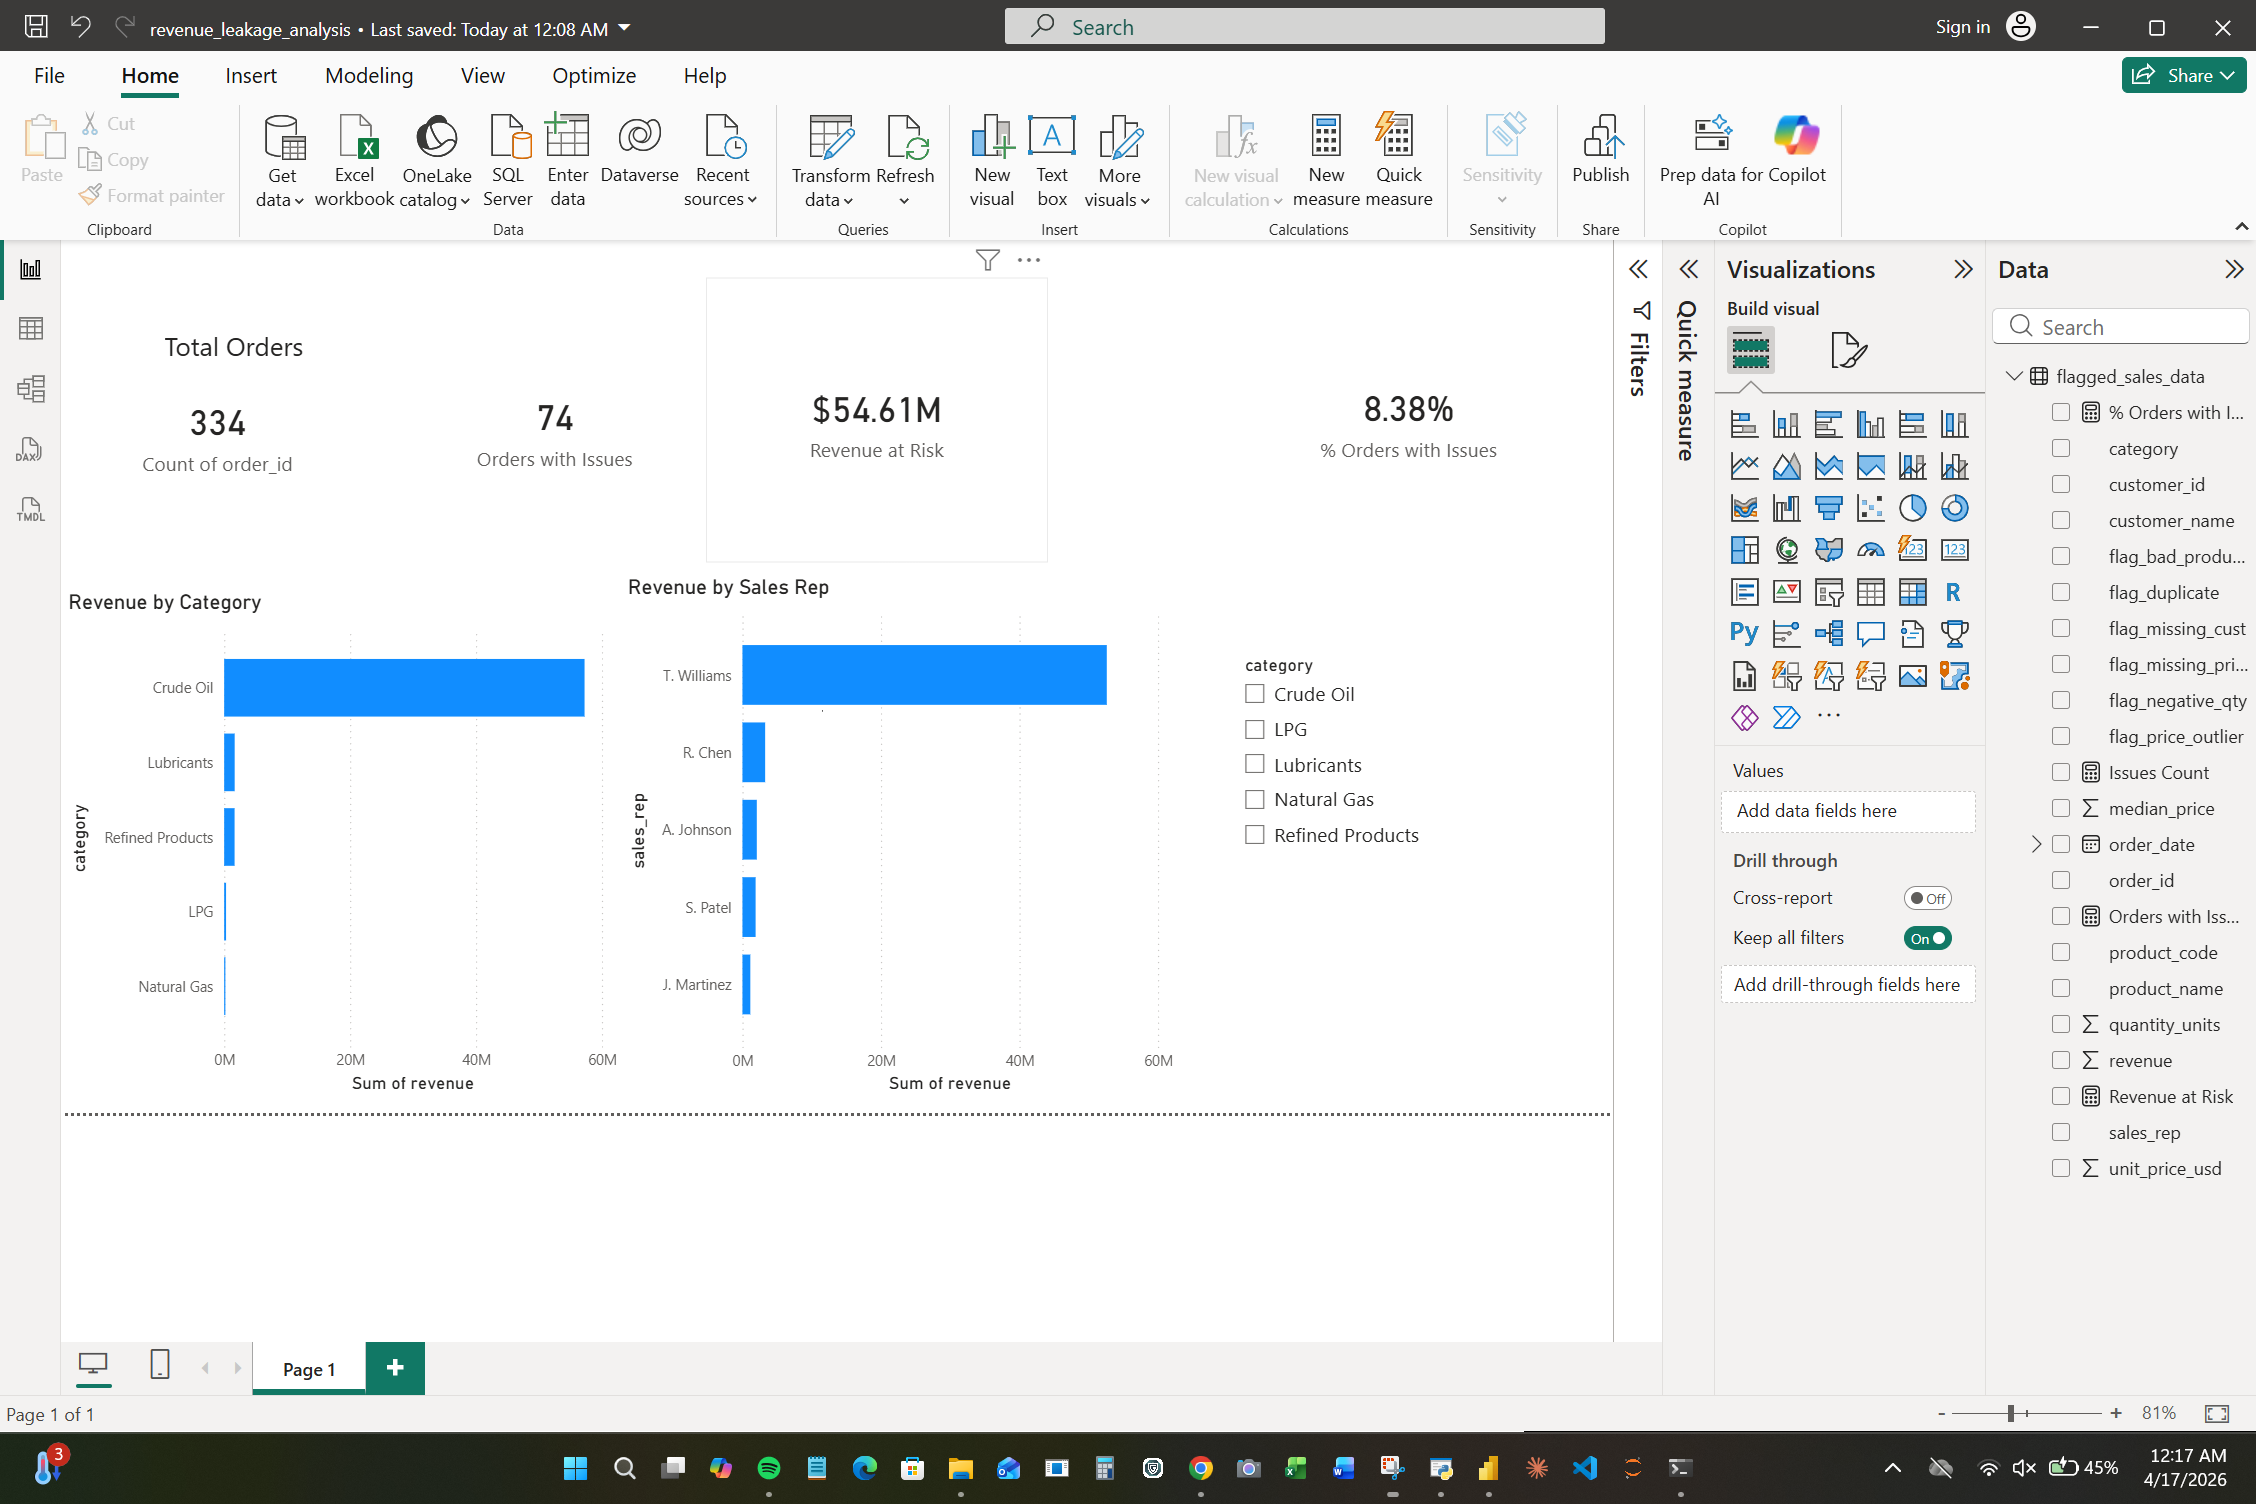

The dashboard page shown, as its layout file describes it:
{"tool":"powerbi","page":{"name":"Page 1","canvas":[1280,720],"ordinal":0},"visuals":[{"type":"card","fields":{"Values":["CountNonNull(flagged_sales_data.order_id)"]},"box":[2.8,31.2,252.8,257],"z":0},{"type":"textbox","box":[80.9,66.7,152,44],"z":1},{"type":"card","fields":{"Values":["flagged_sales_data.Total Issues"]},"box":[282.6,31.2,249.9,248.5],"z":3},{"type":"card","fields":{"Values":["flagged_sales_data.Revenue at Risk"]},"box":[532.5,31.2,281.2,234.3],"z":4},{"type":"clusteredBarChart","title":"Revenue by Category","fields":{"Category":["flagged_sales_data.category"],"Y":["Sum(flagged_sales_data.revenue)"]},"box":[1.4,288.3,461.5,418.9],"z":5},{"type":"clusteredBarChart","title":"Revenue by Sales Rep","fields":{"Category":["flagged_sales_data.sales_rep"],"Y":["Sum(flagged_sales_data.revenue)"]},"box":[463,275.5,458.7,431.7],"z":6},{"type":"slicer","fields":{"Values":["flagged_sales_data.category"]},"box":[964.3,336.6,295.4,325.2],"z":7},{"type":"card","fields":{"Values":["flagged_sales_data.% Orders with Issues"]},"box":[964,31,295,234],"z":8}]}

Visuals, with their boxes on the page's 1280x720 design canvas (x1, y1, x2, y2). These are canvas units, not pixel positions in the 2256x1504 screenshot, which may show the page scaled, cropped or inside an application window:
card - CountNonNull(flagged_sales_data.order_id): 3,31,256,288
textbox: 81,67,233,111
card - flagged_sales_data.Total Issues: 283,31,532,280
card - flagged_sales_data.Revenue at Risk: 532,31,814,266
"Revenue by Category" clusteredBarChart: 1,288,463,707
"Revenue by Sales Rep" clusteredBarChart: 463,276,922,707
slicer - flagged_sales_data.category: 964,337,1260,662
card - flagged_sales_data.% Orders with Issues: 964,31,1259,265
